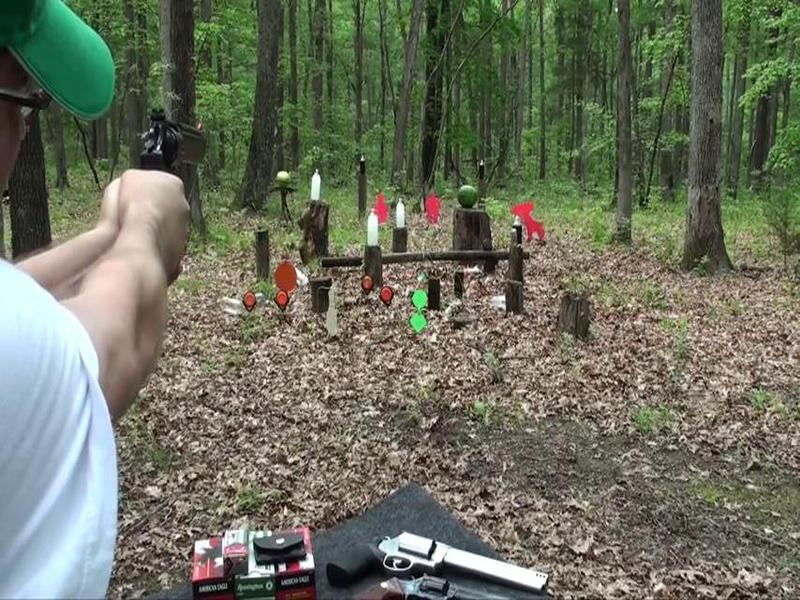Revolver: (116, 100, 234, 207)
